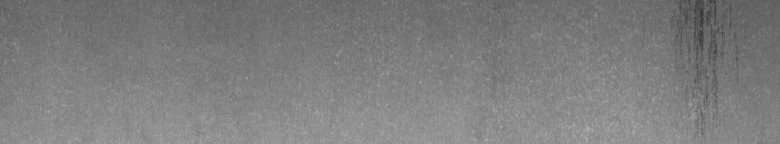ka: (680, 4, 731, 123)
